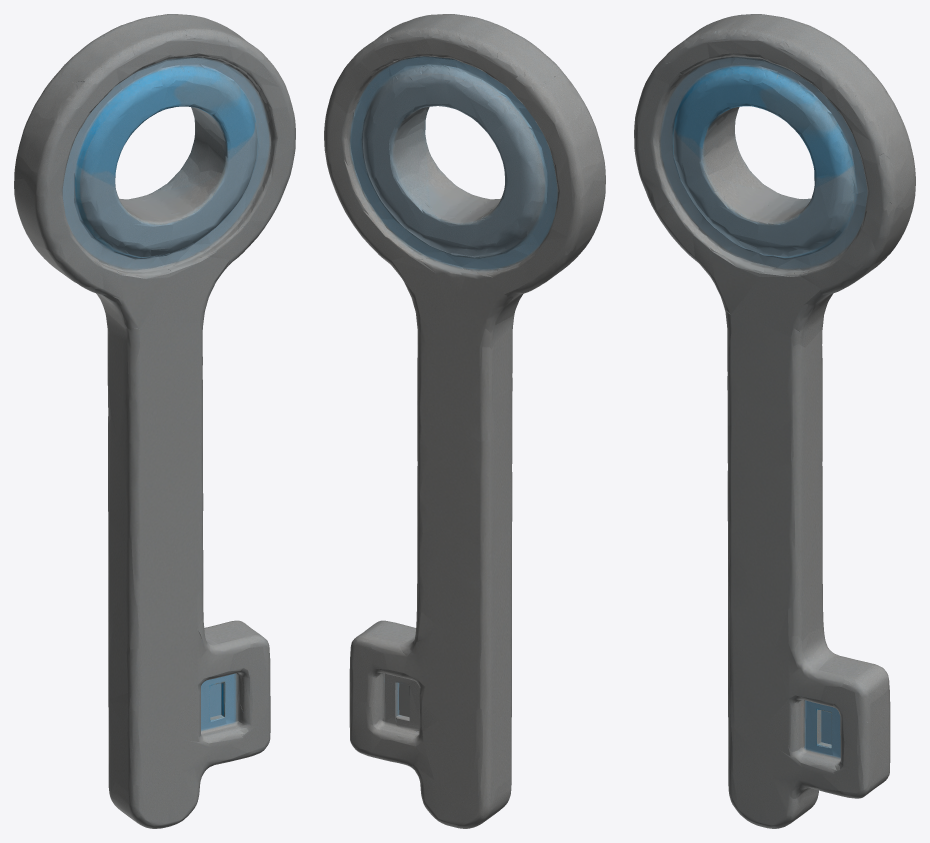
The model's file is key-t3.original.glb.
3 views of the same model, side by side, from view 1: azimuth 30°, elevation 25°; view 2: azimuth 150°, elevation 25°; view 3: azimuth 330°, elevation 25° (orthographic).
Visible parts, largest first — view 1: mesh_node; view 2: mesh_node; view 3: mesh_node.
Part boxes in pixels (bbox=[...]): mesh_node: bbox=[14, 14, 295, 828]; mesh_node: bbox=[324, 14, 605, 828]; mesh_node: bbox=[634, 14, 915, 828].
Bounding box in the file's own units: 0.6531 × 1.9 × 0.1499.
Materials: 1 (1 with a texture image).
